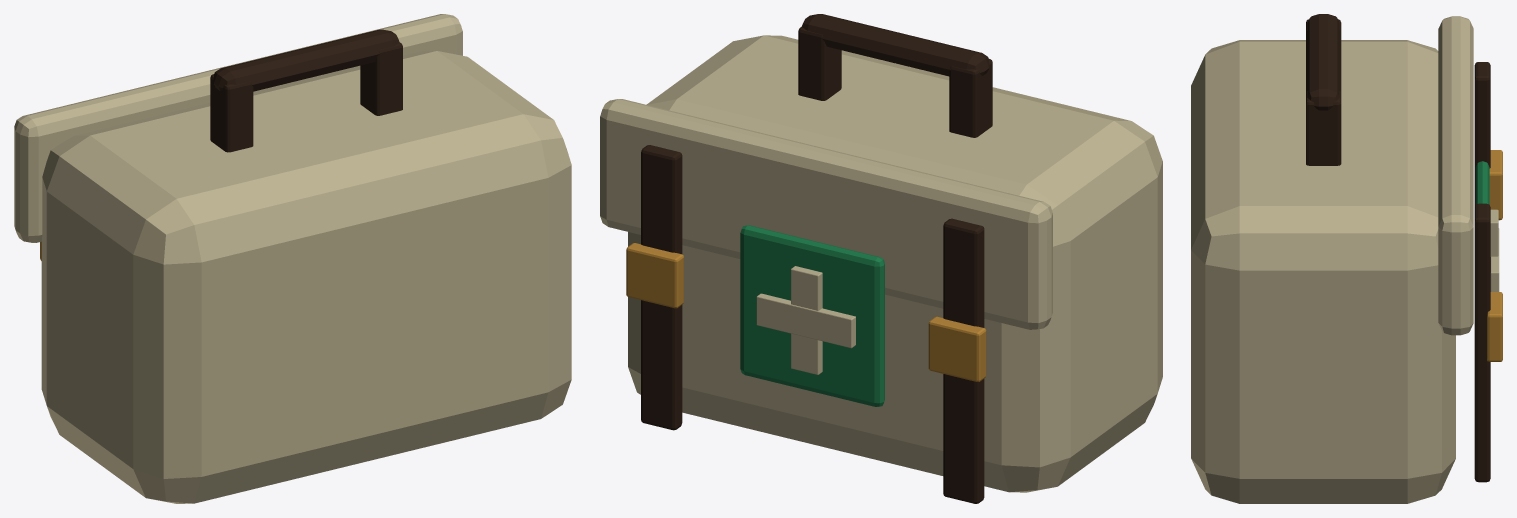
Rendered from noir-health-pickup.glb.
The picture shows the model from 3 angles, left to right: view 1: azimuth 30°, elevation 25°; view 2: azimuth 150°, elevation 25°; view 3: azimuth 270°, elevation 25°; orthographic projection. The views are drawn at different scales.
Parts seen in each view (by area): view 1: noir-health-pickup mesh; view 2: noir-health-pickup mesh; view 3: noir-health-pickup mesh.
Boxes of the visible parts, x1=… form: noir-health-pickup mesh: x1=14, y1=14, x2=571, y2=503; noir-health-pickup mesh: x1=600, y1=14, x2=1162, y2=503; noir-health-pickup mesh: x1=1191, y1=14, x2=1502, y2=503.
Bounding box in the file's own units: 0.56 × 0.46 × 0.353.
